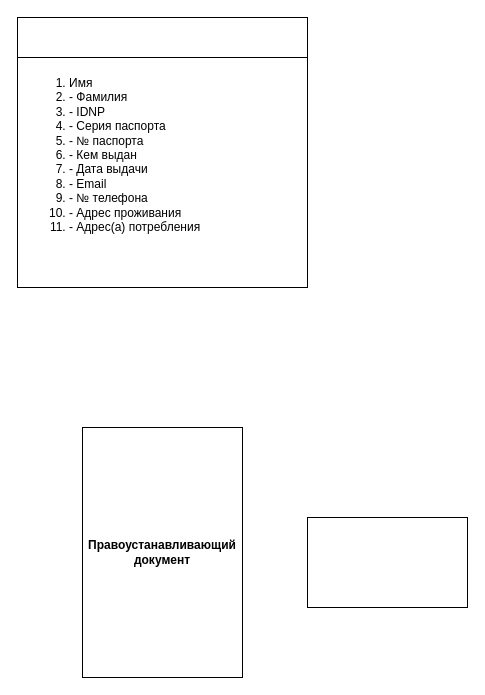
Some shapes in this 485 by 695 pixel diagram are drawn without their labels. The centre of each missing label's shape, as x and y in pixels:
"https://naturalgaz.md/en/auth/change-vendor" belongs at [162,37].
"Внутренний паспорт" belongs at [387,562].
